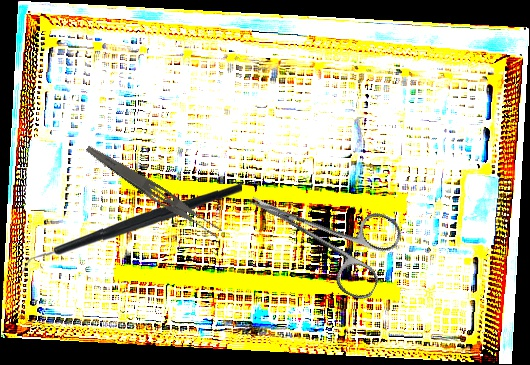Chopper: (22, 177, 242, 282)
Dressing Forceps: (81, 142, 225, 242)
Iris Scissors: (233, 157, 407, 305)
